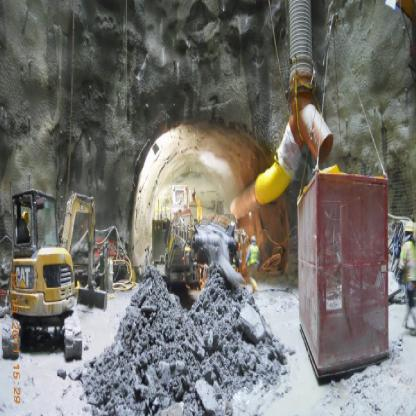excavator: (1, 161, 112, 374), (390, 209, 415, 350), (242, 230, 261, 296)
